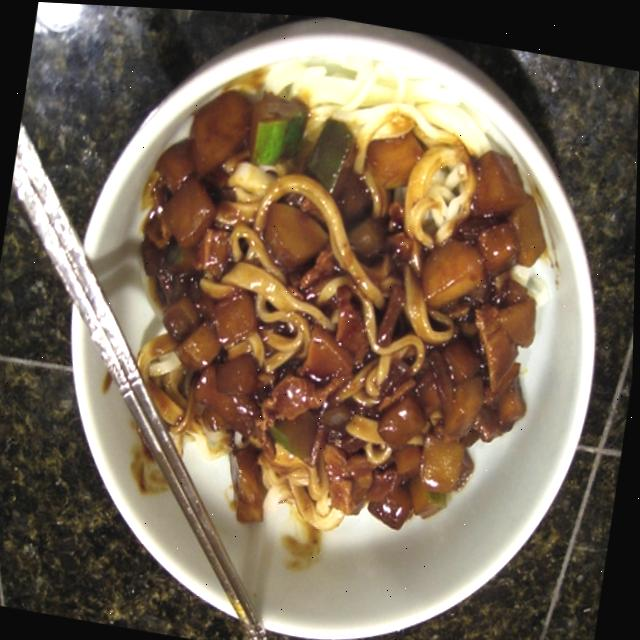面条主食: (16, 13, 609, 640)
